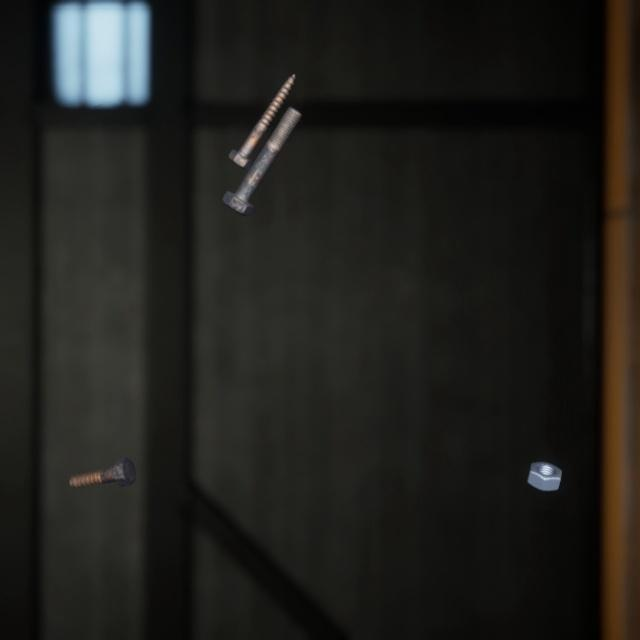bolt: (217, 88, 306, 206), (223, 56, 300, 160), (64, 431, 140, 471)
nut: (522, 436, 566, 474)
